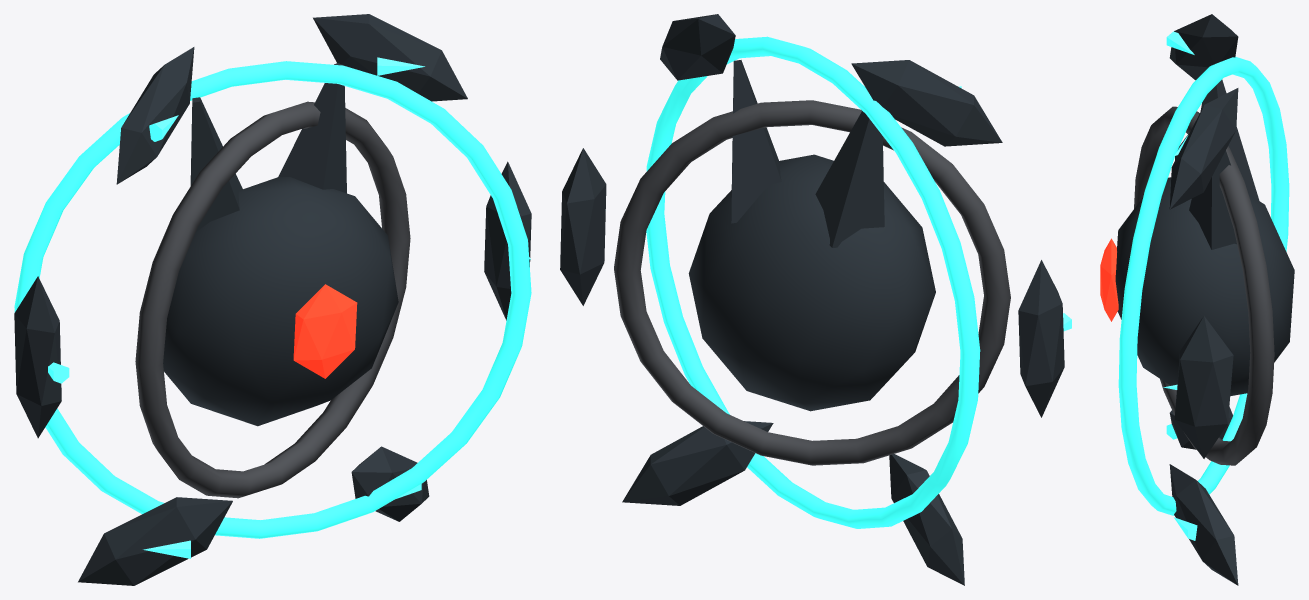
File: guardian-drone.glb
The picture shows the model from 3 angles, left to right: view 1: azimuth 30°, elevation 25°; view 2: azimuth 150°, elevation 25°; view 3: azimuth 270°, elevation 25°; orthographic projection. The views are drawn at different scales.
Parts seen in each view (by area): view 1: guardian-drone; view 2: guardian-drone; view 3: guardian-drone.
Boxes of the visible parts, left/top/right/bottom form: guardian-drone: left=14, top=14, right=531, bottom=585; guardian-drone: left=560, top=14, right=1071, bottom=585; guardian-drone: left=1100, top=14, right=1294, bottom=585.
Bounding box in the file's own units: 3.1 × 3.04 × 1.18.
